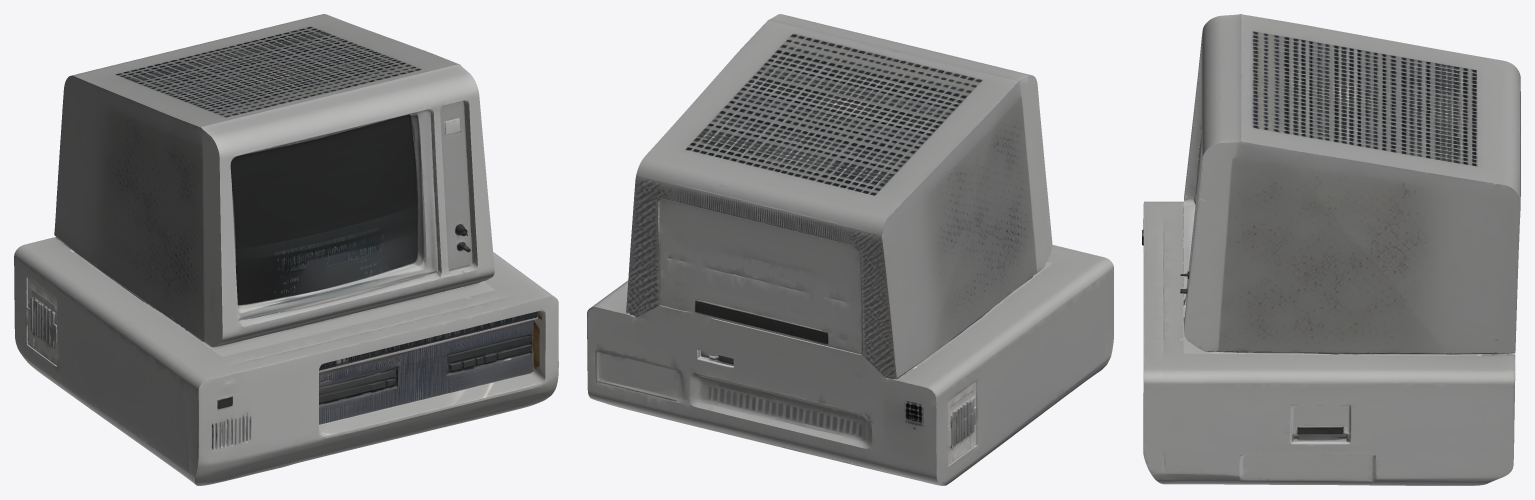
File: monitor2.glb
3 renders of one model, left to right at view 1: azimuth 30°, elevation 25°; view 2: azimuth 150°, elevation 25°; view 3: azimuth 270°, elevation 25°, orthographic. The views are drawn at different scales.
Parts seen in each view (by area): view 1: model; view 2: model; view 3: model.
Boxes of the visible parts, left/top/right/bottom form: model: left=14, top=14, right=558, bottom=485; model: left=587, top=14, right=1113, bottom=485; model: left=1142, top=14, right=1520, bottom=485.
Bounding box in the file's own units: 1.9 × 1.66 × 1.71.
Materials: 1 (1 with a texture image).
